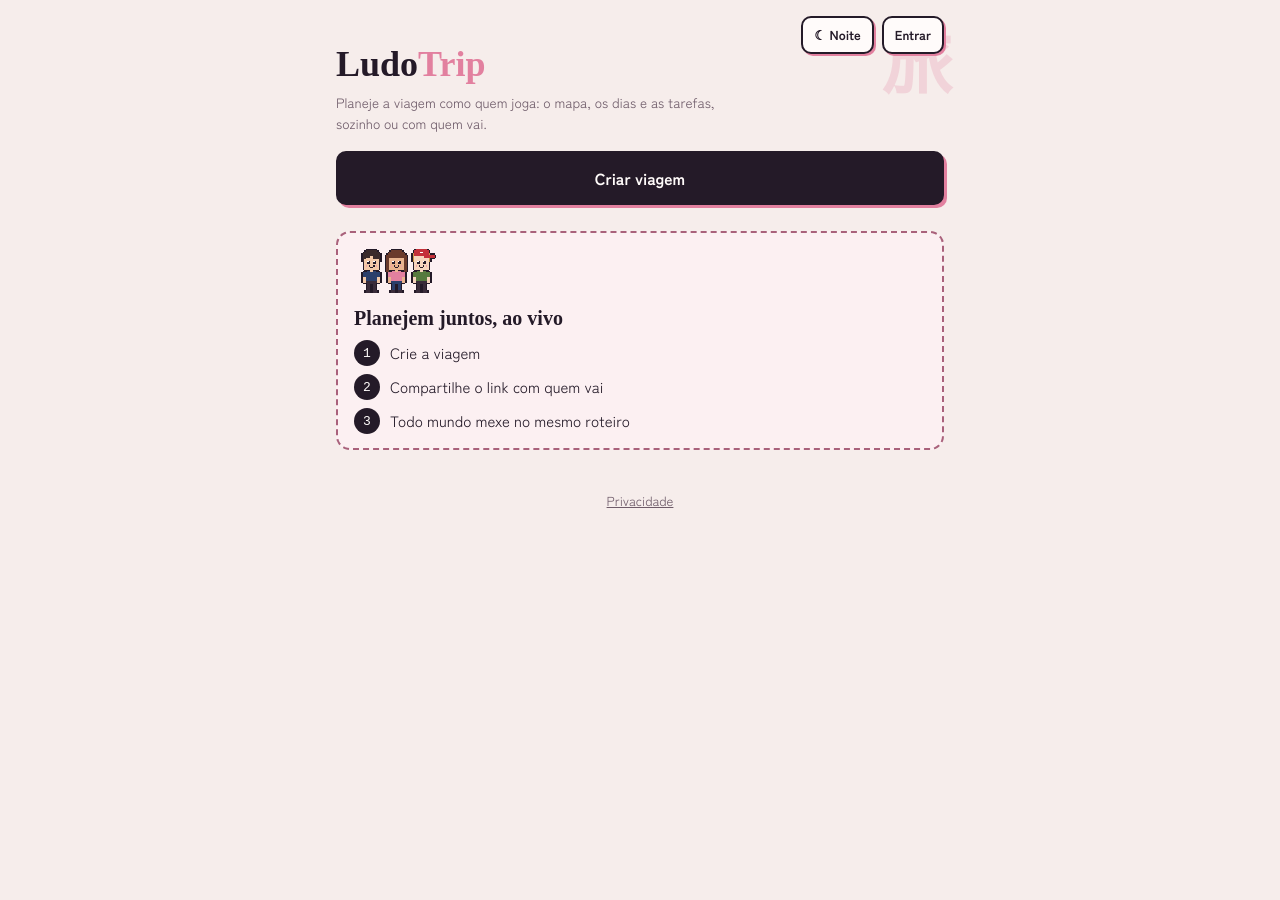
Test case: ENTRAR › "Entrar" no topo; com Google, o painel fecha e aparece o rosto da conta
What coordinates should you click on to do the following:
click the button "Entrar"
I would click on:
 (913, 35)
Its box is [882,16,944,54].
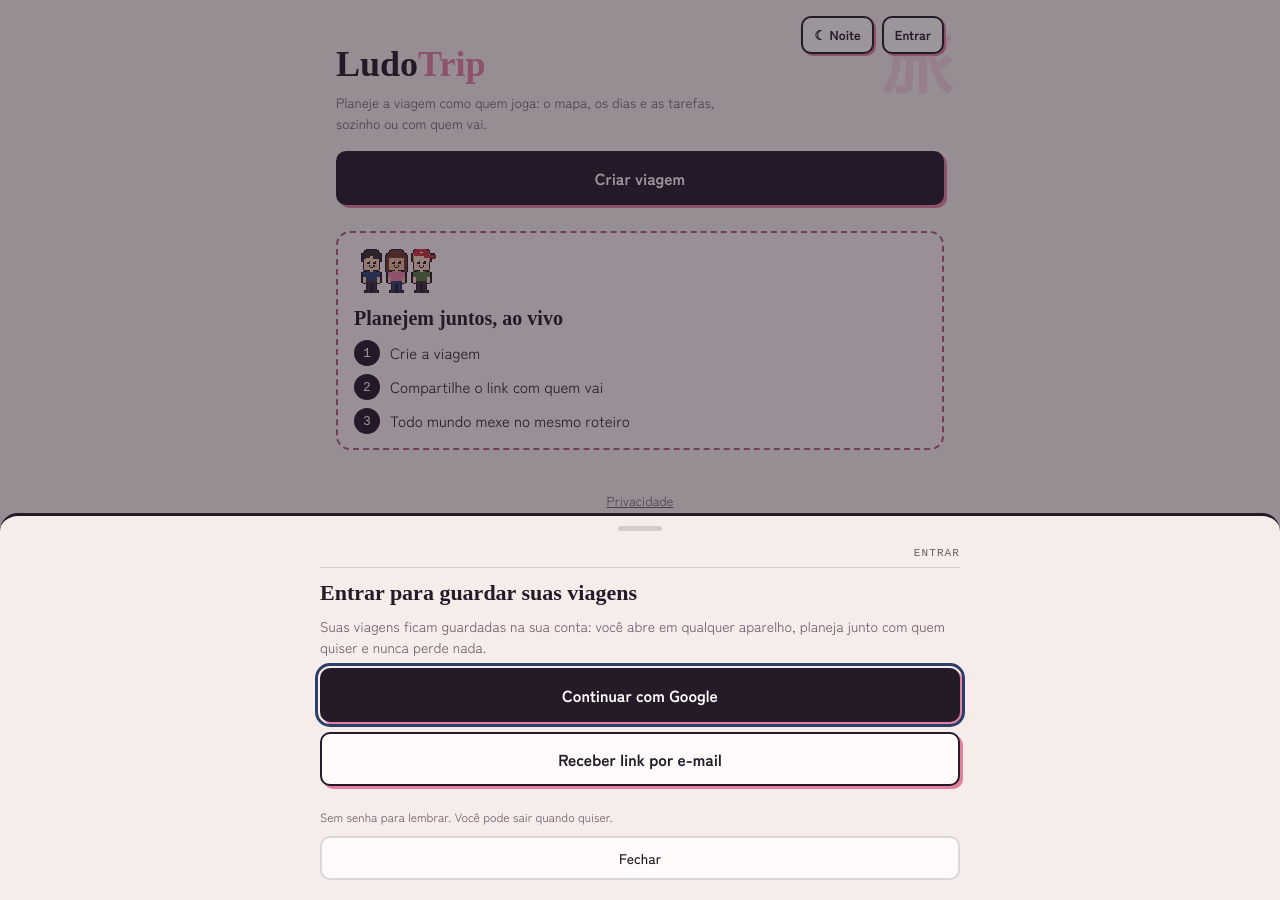
Check: the dialog "ENTRAR" is shown, box [0,513,1279,899]
Check: the heading "Entrar para guardar suas viagens" is shown, box [320,580,637,605]
What coordinates should you click on to do the following:
click the button "Continuar com Google"
I would click on:
 (640, 695)
Its box is [320,668,960,722].
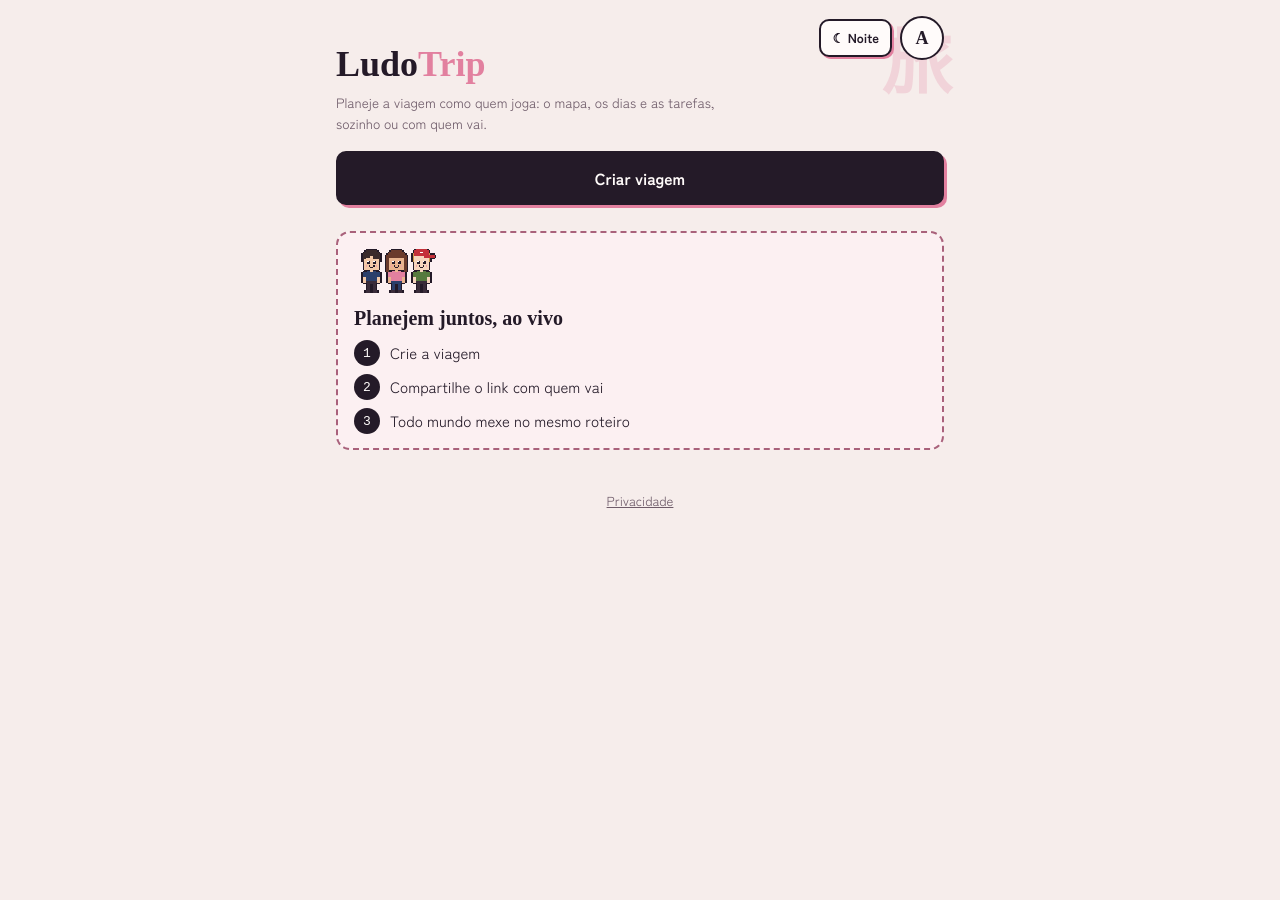
Check: the button named "Sua conta: Ana" is shown, box [900,16,944,60]
